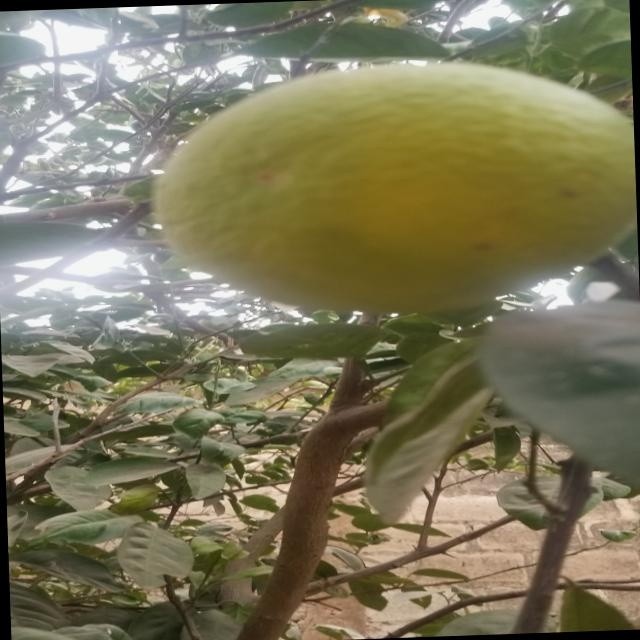agrume: (138, 47, 640, 333)
